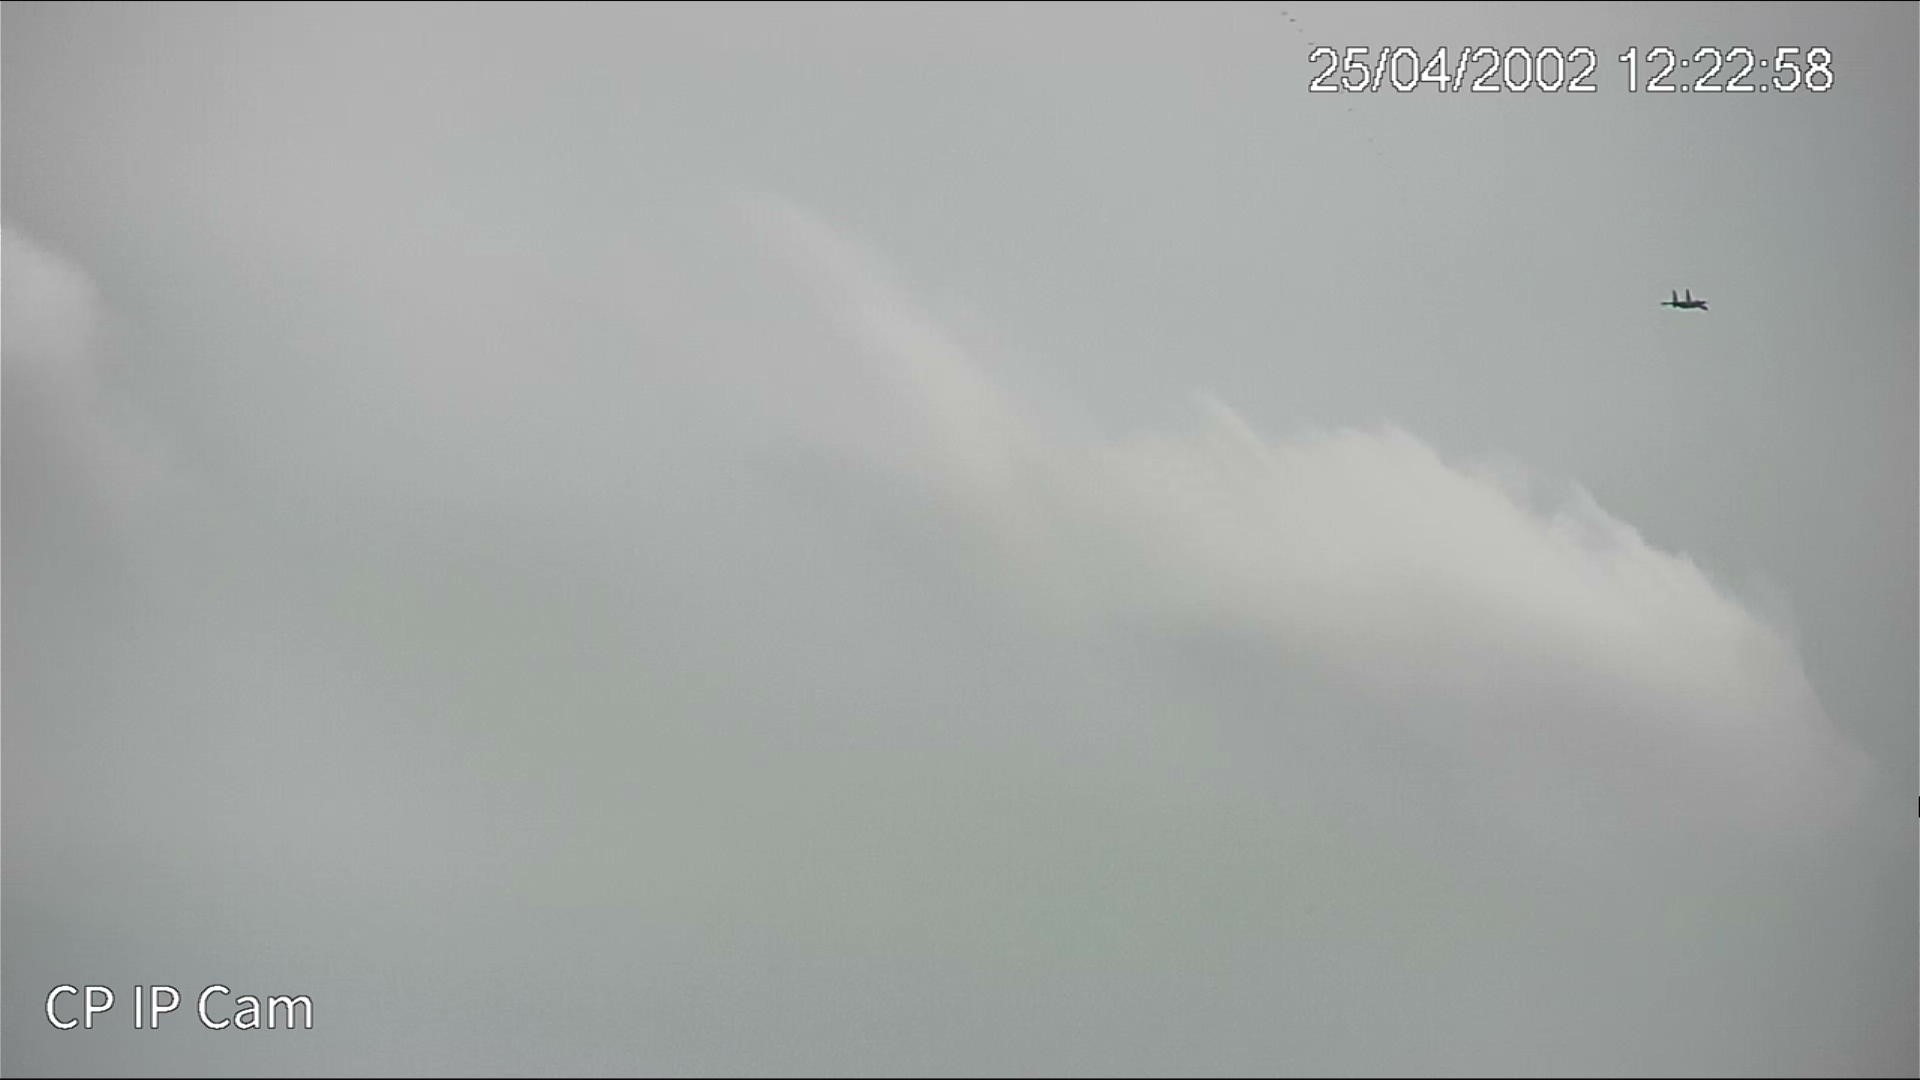SU_30: (1660, 289, 1709, 313)
